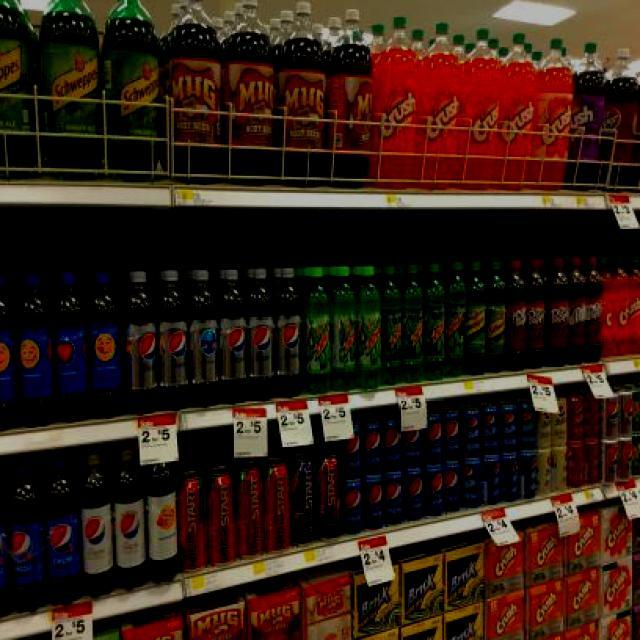Drinks: (598, 48, 640, 192), (7, 462, 43, 613), (43, 457, 79, 607), (112, 446, 148, 591), (79, 451, 114, 600), (122, 270, 157, 415), (156, 270, 188, 412), (188, 270, 220, 410), (274, 266, 302, 401), (221, 268, 248, 405), (302, 266, 330, 396), (247, 268, 274, 402), (330, 265, 355, 392), (356, 265, 381, 392), (544, 258, 570, 368), (423, 263, 446, 382), (401, 264, 423, 384), (446, 260, 468, 378), (504, 260, 526, 372), (525, 258, 546, 368), (382, 264, 401, 385), (568, 256, 588, 364), (586, 258, 604, 362), (340, 422, 362, 483), (402, 411, 423, 472), (362, 415, 382, 476), (362, 476, 383, 534), (382, 414, 402, 474), (0, 470, 8, 615), (340, 485, 362, 535), (383, 476, 404, 528), (403, 472, 424, 524), (460, 408, 480, 460), (498, 404, 518, 456), (423, 468, 443, 520), (442, 464, 462, 516), (423, 414, 442, 468), (442, 410, 461, 464), (461, 459, 480, 512), (480, 406, 499, 458), (518, 453, 538, 502), (480, 459, 500, 507), (566, 390, 584, 443), (599, 390, 618, 440), (499, 456, 518, 504), (518, 402, 536, 452), (550, 446, 568, 494), (566, 442, 584, 490), (599, 441, 618, 486), (584, 390, 600, 440), (618, 388, 634, 437), (536, 448, 552, 496), (551, 397, 567, 445), (584, 441, 600, 488), (619, 437, 633, 482), (536, 409, 552, 448)
